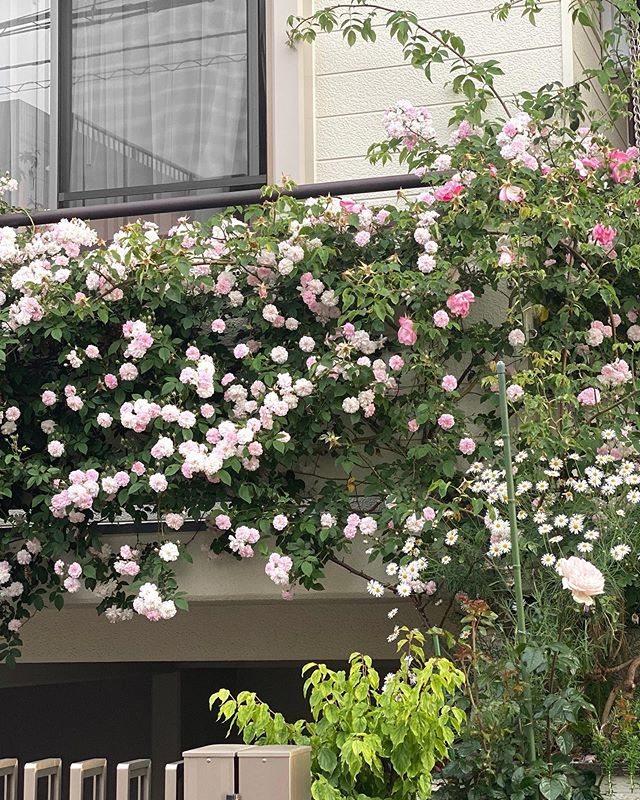building: (1, 1, 547, 665)
flowers: (1, 180, 640, 705)
window: (1, 1, 269, 178)
